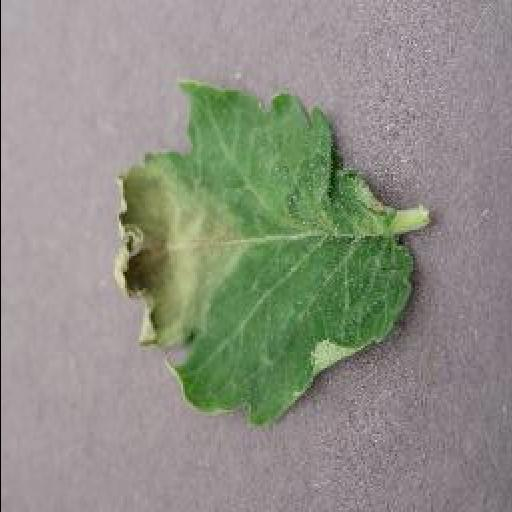disease_tomato: (110, 85, 412, 431)
